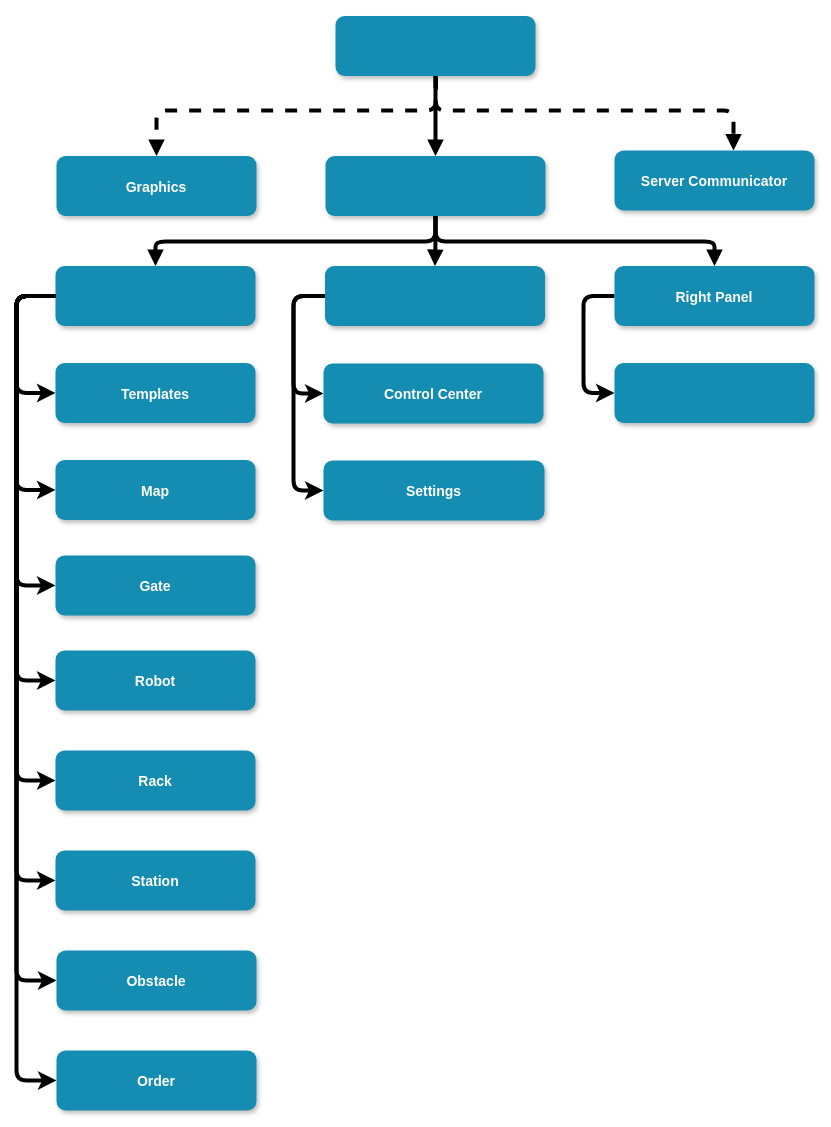
Some shapes in this 831 by 1127 pixel diagram are drawn without their labels. Here are the shapes that lost their labels. From the top down, the centre of each, then its label:
(x=436, y=47): Application
(x=436, y=187): Main
(x=156, y=297): Left Panel
(x=435, y=297): Center Panel
(x=715, y=394): Items
